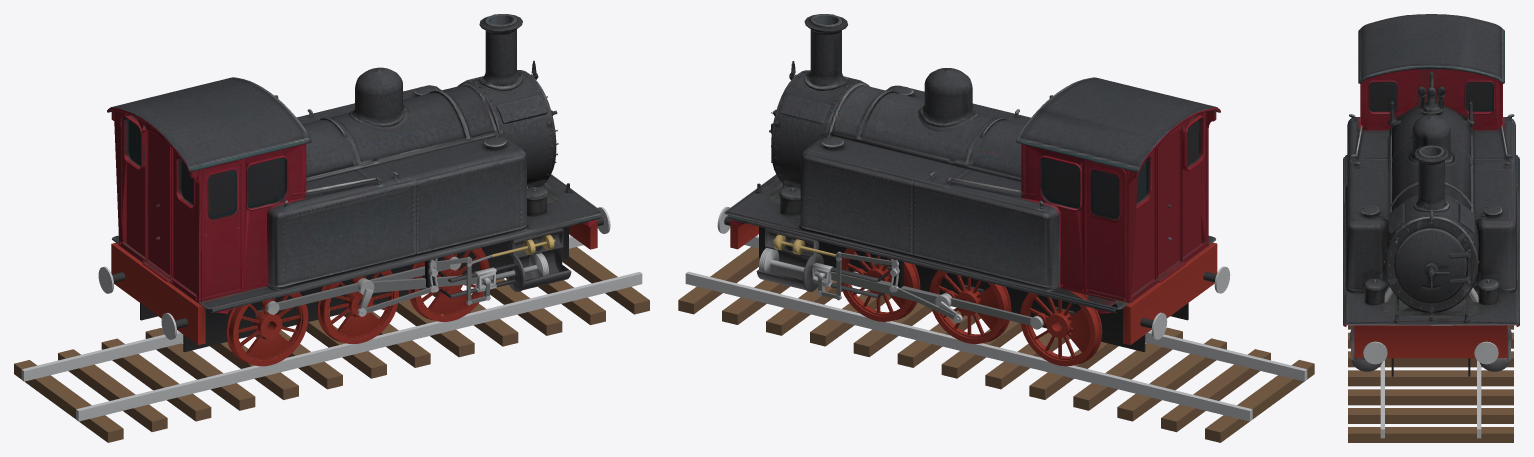
3 renders of one model, left to right at view 1: azimuth 30°, elevation 25°; view 2: azimuth 150°, elevation 25°; view 3: azimuth 270°, elevation 25°, orthographic. The views are drawn at different scales.
Parts seen in each view (by area): view 1: cab, tank_r, track~wood, boiler_cladding, cab_roof, track, smokebox, footplate, frames~red, frames, wheelset_3~red, wheelset_2~red (+6 smaller); view 2: tank_l, cab, track~wood, boiler_cladding, cab_roof, track, smokebox, footplate, frames~red, frames, wheelset_3~red, wheelset_2~red (+7 smaller); view 3: track~wood, boiler_cladding, smokebox, cab_roof, cab, footplate, tank_l, tank_r, frames~red, smokebox_door, frames~steel, track (+3 smaller).
Part boxes in pixels (left/top/right/bottom): cab: left=107, top=107, right=306, bottom=302; tank_r: left=277, top=135, right=527, bottom=287; track~wood: left=14, top=247, right=649, bottom=442; boiler_cladding: left=262, top=67, right=506, bottom=195; cab_roof: left=108, top=77, right=311, bottom=178; track: left=21, top=235, right=642, bottom=421; smokebox: left=463, top=14, right=570, bottom=190; footplate: left=112, top=174, right=602, bottom=313; frames~red: left=111, top=220, right=597, bottom=345; frames: left=140, top=226, right=568, bottom=352; wheelset_3~red: left=226, top=292, right=308, bottom=366; wheelset_2~red: left=317, top=270, right=398, bottom=343; tank_l: left=800, top=135, right=1050, bottom=287; cab: left=1021, top=107, right=1220, bottom=302; track~wood: left=678, top=246, right=1314, bottom=442; boiler_cladding: left=820, top=68, right=1067, bottom=195; cab_roof: left=1016, top=77, right=1219, bottom=178; track: left=685, top=235, right=1307, bottom=421; smokebox: left=757, top=14, right=863, bottom=191; footplate: left=724, top=174, right=1215, bottom=313; frames~red: left=730, top=221, right=1217, bottom=345; frames: left=759, top=226, right=1188, bottom=351; wheelset_3~red: left=1020, top=290, right=1116, bottom=366; wheelset_2~red: left=929, top=270, right=1011, bottom=343; track~wood: left=1348, top=325, right=1513, bottom=442; boiler_cladding: left=1350, top=66, right=1512, bottom=284; smokebox: left=1360, top=145, right=1502, bottom=320; cab_roof: left=1358, top=14, right=1504, bottom=86; cab: left=1348, top=66, right=1514, bottom=130; footplate: left=1343, top=155, right=1519, bottom=326; tank_l: left=1474, top=118, right=1516, bottom=291; tank_r: left=1347, top=118, right=1387, bottom=291; frames~red: left=1354, top=325, right=1507, bottom=358; smokebox_door: left=1396, top=231, right=1466, bottom=302; frames~steel: left=1363, top=341, right=1498, bottom=364; track: left=1380, top=360, right=1481, bottom=438.
Size of the model in its own units: 9 by 4.29 by 2.77.
9 materials, 1 textured.
